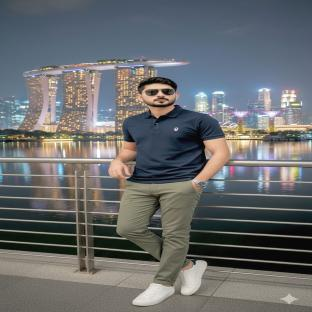Human: (109, 77, 230, 306)
